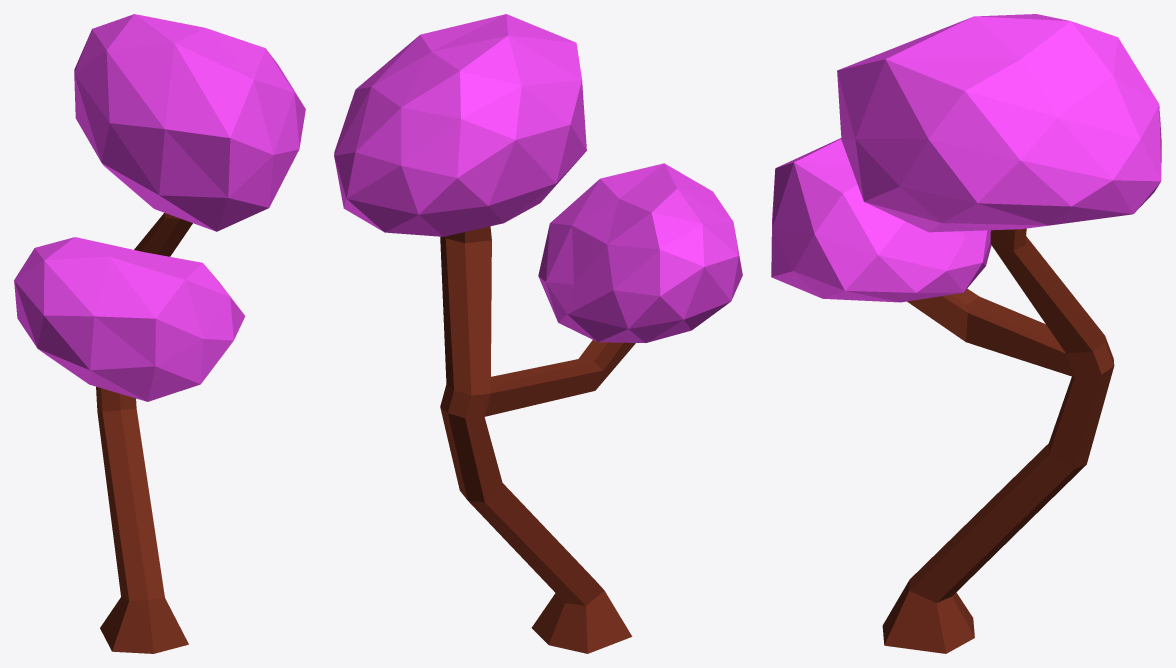
Rendered from Low_poly_cherry_tree__1.glb.
The picture shows the model from 3 angles, left to right: view 1: azimuth 30°, elevation 25°; view 2: azimuth 150°, elevation 25°; view 3: azimuth 270°, elevation 25°; orthographic projection. The views are drawn at different scales.
Visible parts, largest first — view 1: Low poly cherry tree #1; view 2: Low poly cherry tree #1; view 3: Low poly cherry tree #1.
Boxes of the visible parts, x1,y1,x2,y2 form: Low poly cherry tree #1: (14,14,305,653); Low poly cherry tree #1: (334,14,742,653); Low poly cherry tree #1: (771,14,1161,653).
Size of the model in its own units: 2.74 by 4.82 by 2.65.
